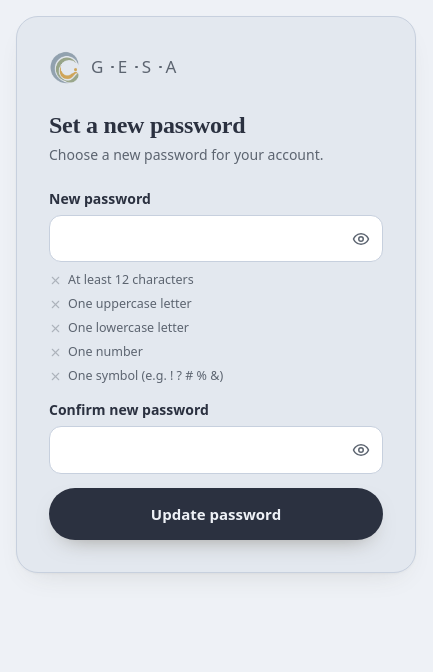
ResetPasswordPage › shows a calm message and a 'request a new link' CTA if the recovery link is invalid or expired
Type "NewPassw0rd!23" into the password field labelled "New password".
click(216, 239); type("NewPassw0rd!23")  # box left=49, top=215, right=383, bottom=262
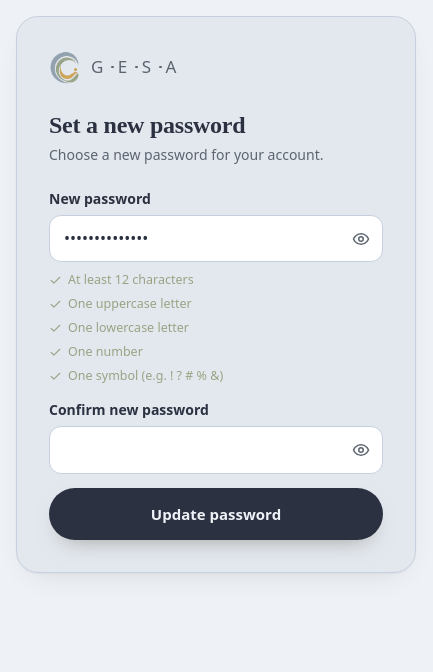
Type "NewPassw0rd!23" into the password field labelled "Confirm new password".
click(216, 450); type("NewPassw0rd!23")  # box left=49, top=426, right=383, bottom=474
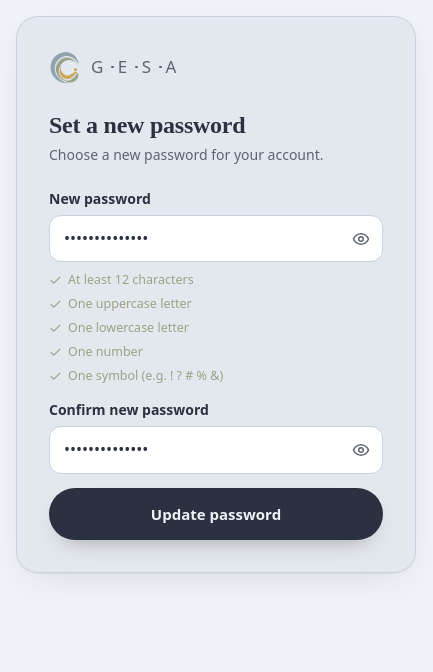
Click the button "Update password".
click(216, 514)  # box left=49, top=488, right=383, bottom=540
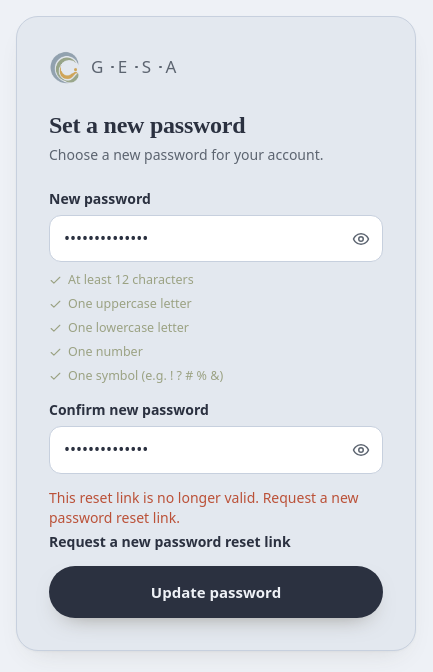
Check: the text "This reset link is no longer valid. Request a new password reset link." is shown, box left=49, top=488, right=383, bottom=528
